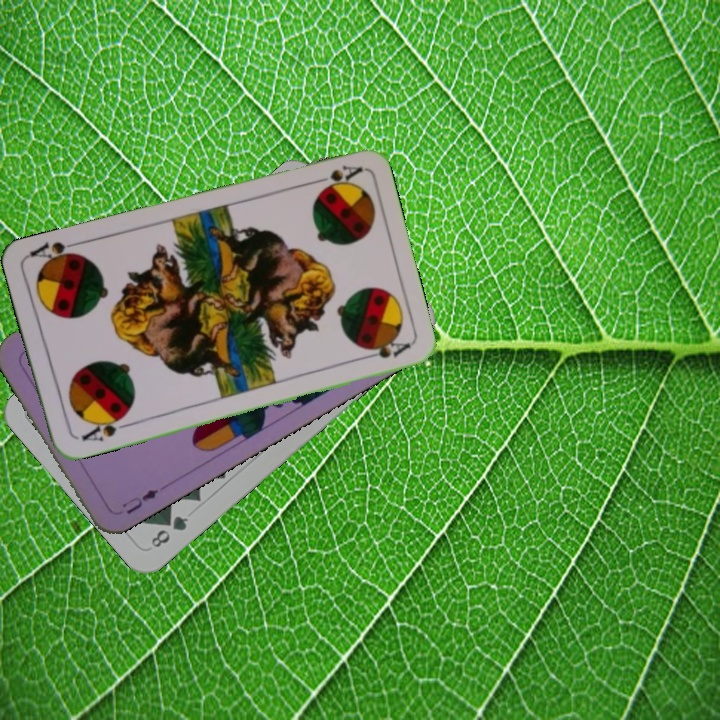EU: (117, 485, 161, 517)
G8: (146, 511, 192, 551)
SA: (306, 161, 365, 196), (77, 411, 132, 444)
